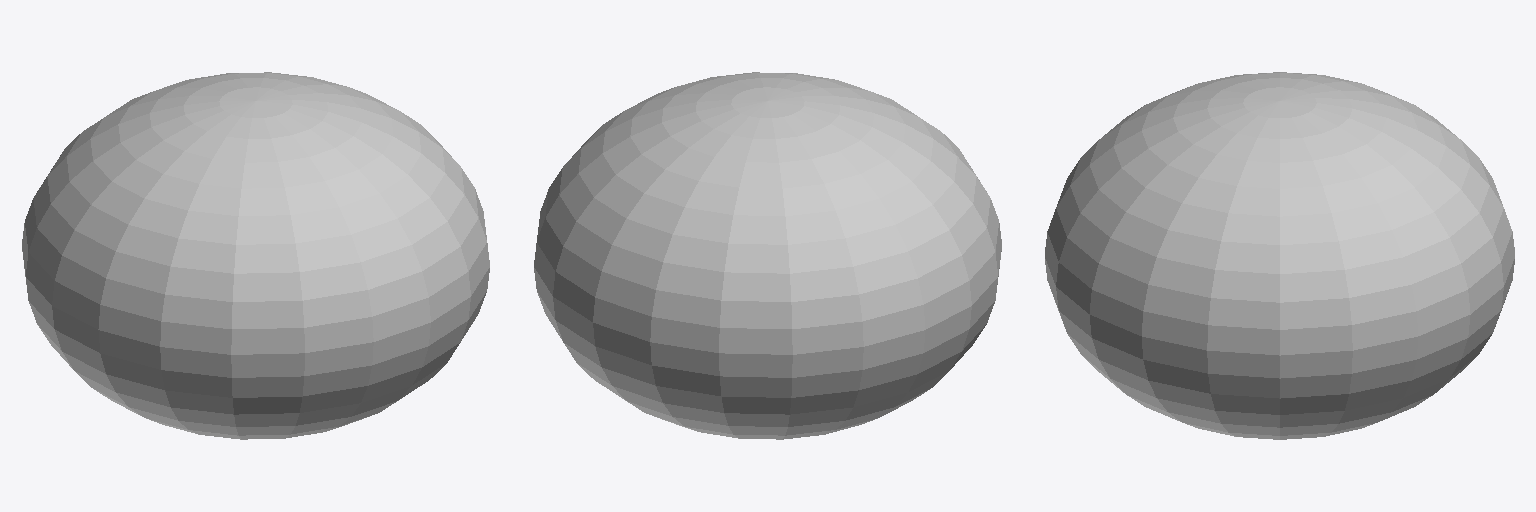
The model's file is tank slime.obj.
3 views of the same model, side by side, from view 1: azimuth 30°, elevation 25°; view 2: azimuth 150°, elevation 25°; view 3: azimuth 270°, elevation 25° (orthographic).
Visible parts, largest first — view 1: pSphere1; view 2: pSphere1; view 3: pSphere1.
Boxes of the visible parts, x1=… form: pSphere1: x1=22, y1=72, x2=489, y2=439; pSphere1: x1=534, y1=72, x2=1001, y2=439; pSphere1: x1=1045, y1=72, x2=1514, y2=439.
Bounding box in the file's own units: 18.75 × 13.63 × 18.75.